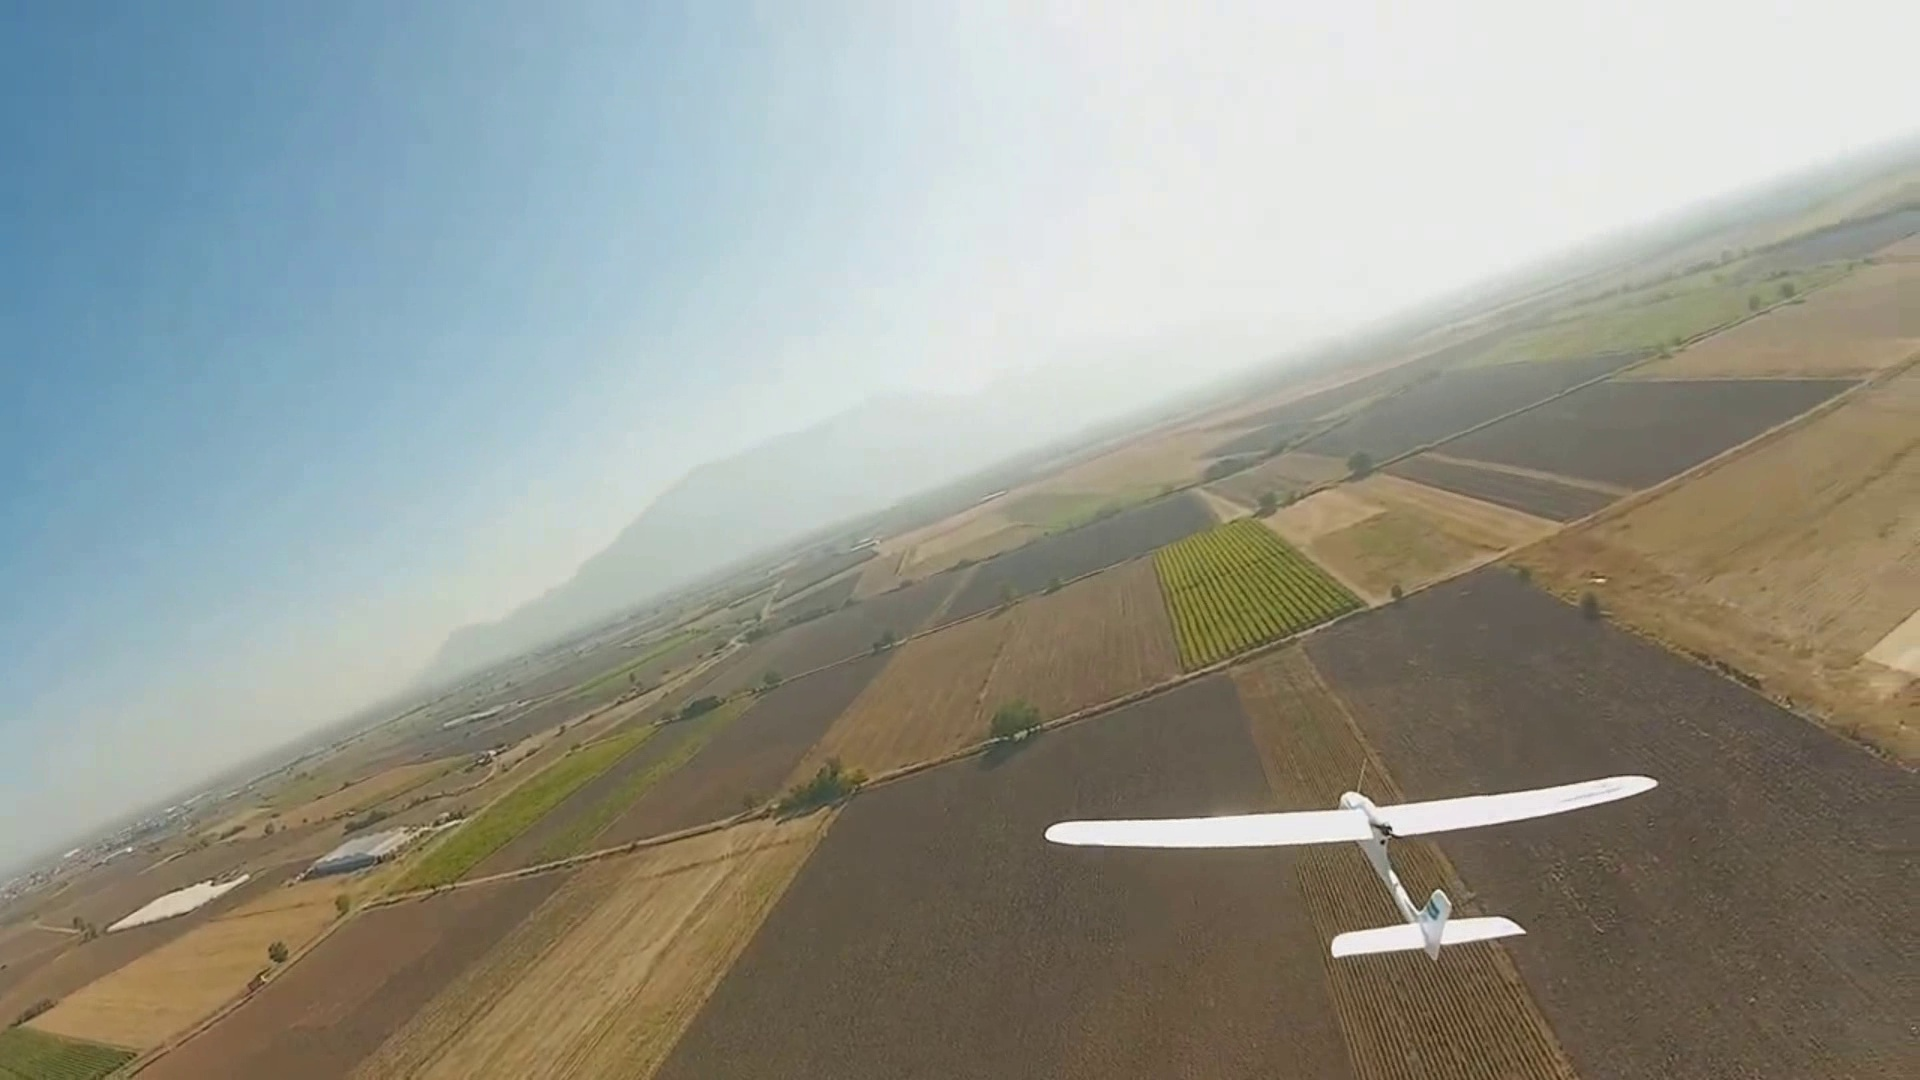airplane: (1044, 774, 1656, 960)
